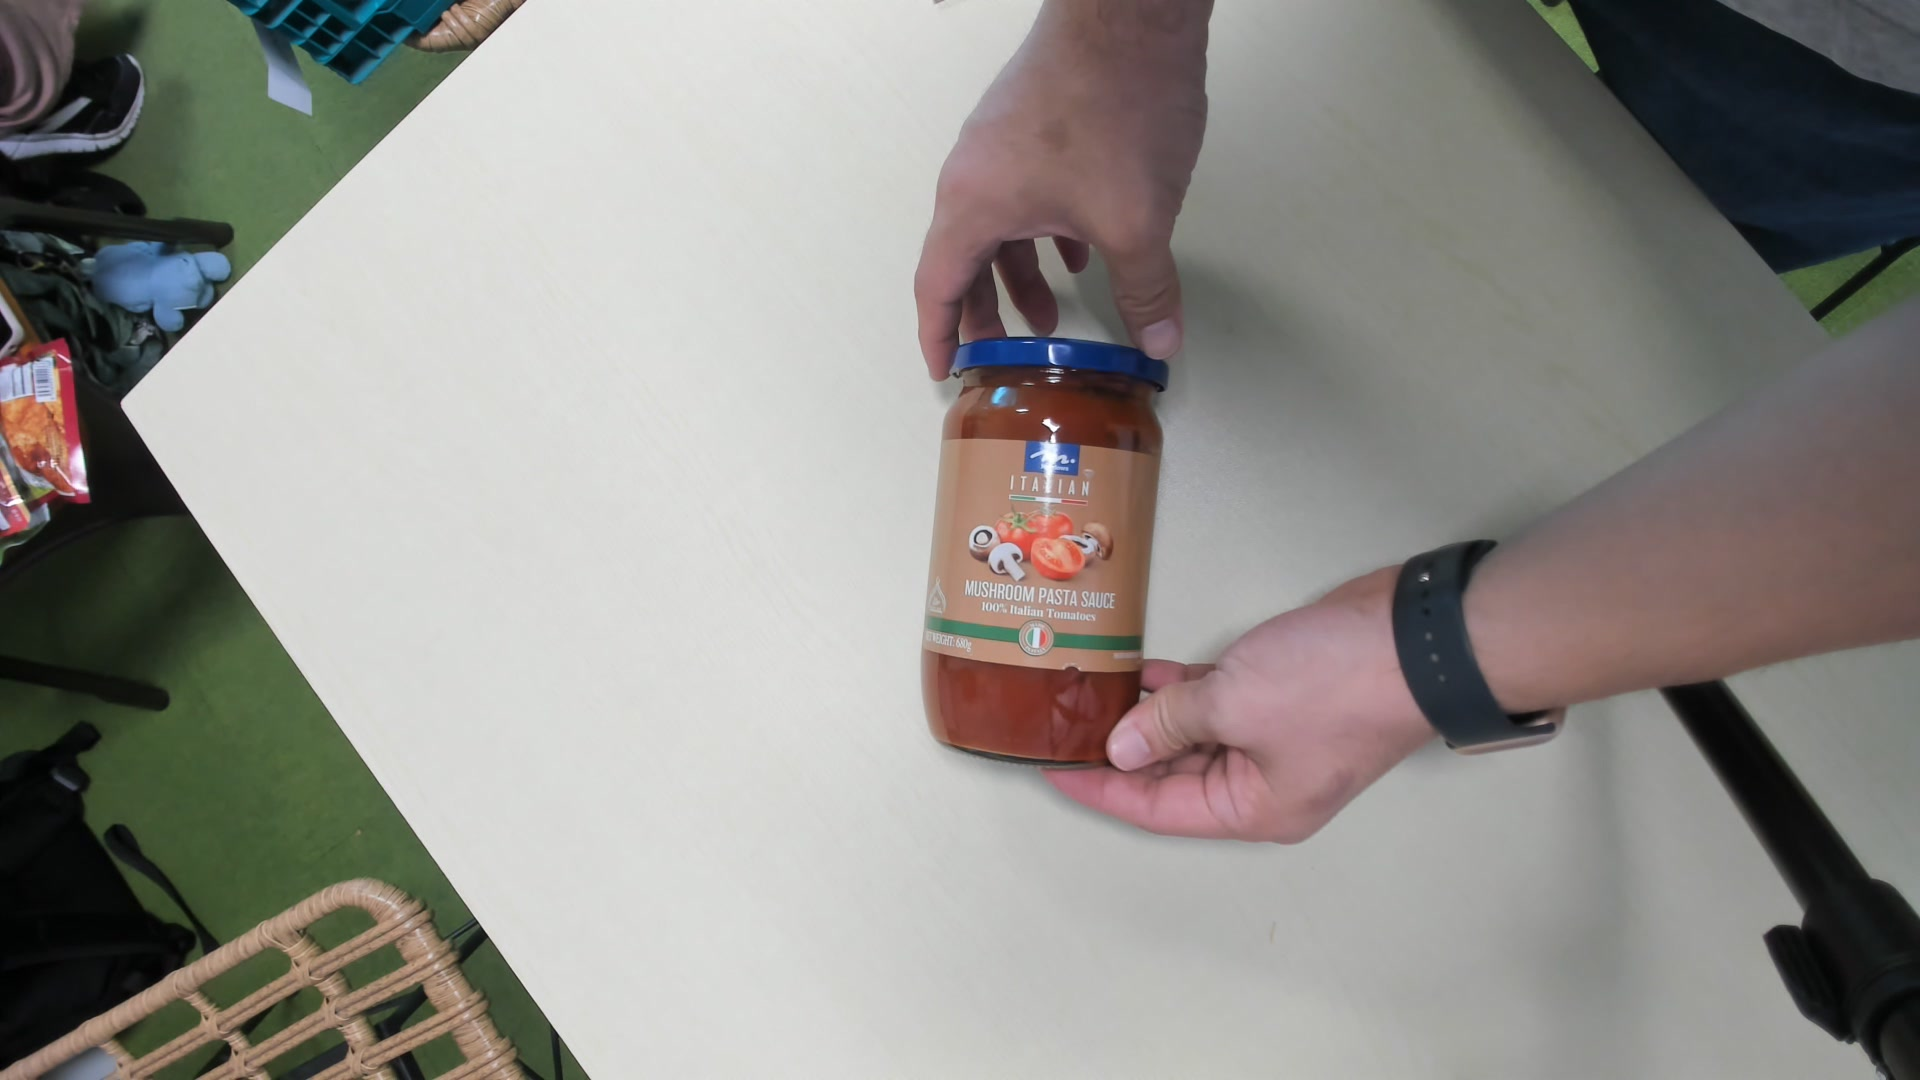PastaSauce_600-699g_Halal_NonHealthy: (919, 339, 1168, 764)
